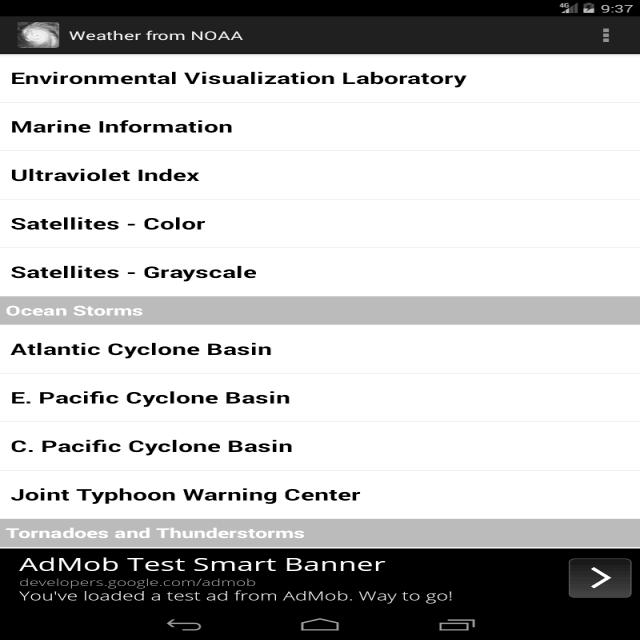Button: (564, 556, 637, 600)
ImageButton: (592, 27, 619, 46)
ImageView: (8, 21, 57, 48)
TextView: (15, 552, 466, 606), (7, 64, 474, 92), (8, 481, 368, 506), (4, 383, 298, 409), (2, 523, 308, 544), (6, 162, 199, 184), (69, 28, 252, 43), (1, 304, 142, 320)
